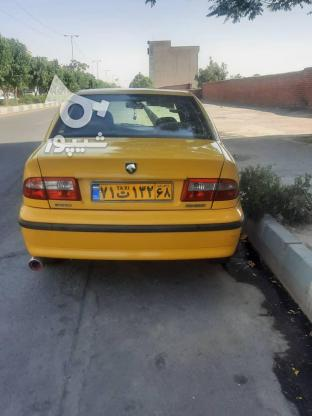car: (90, 179, 176, 203)
